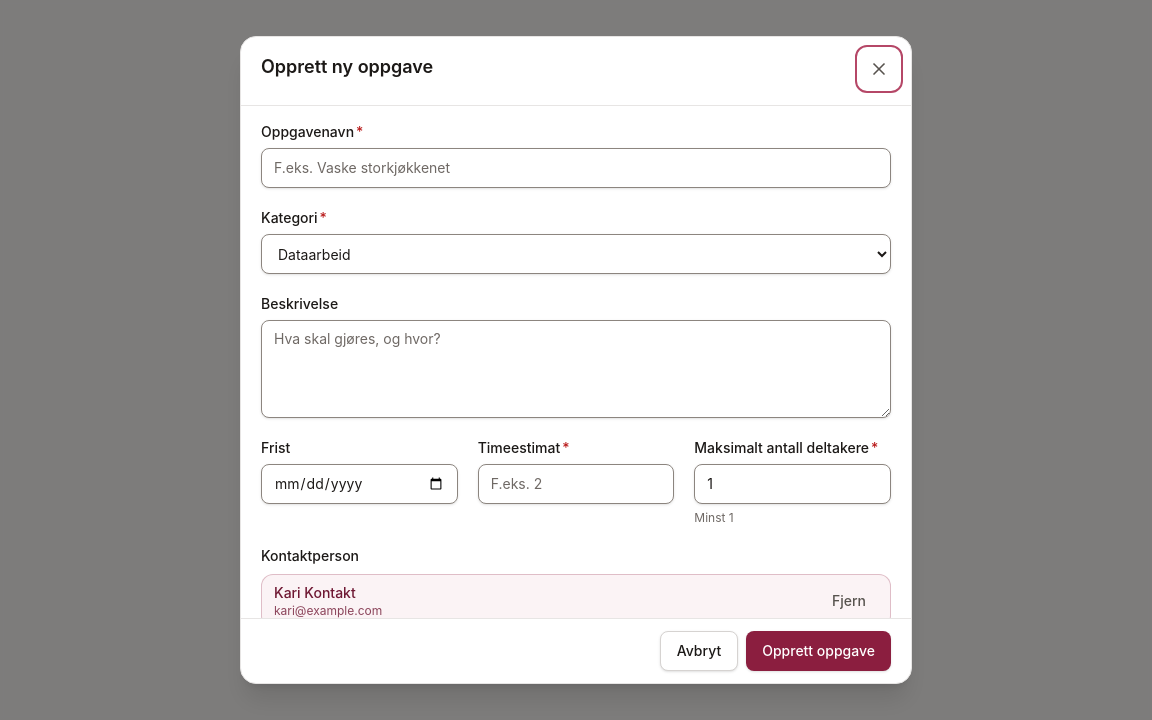
Test: TaskCreationModal › shows validation errors and does not submit invalid input
The width and height of the screenshot is (1152, 720).
Clear the field labelled "Oppgavenavn*" at (576, 168), box [261,148,891,188]
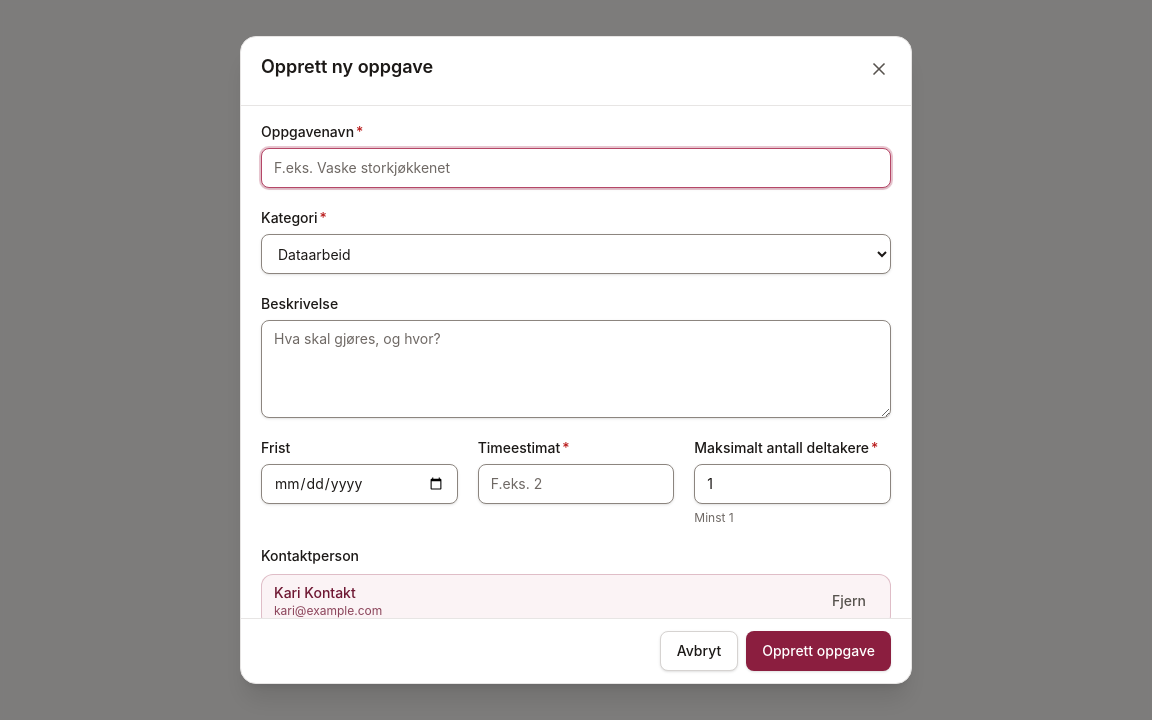
Type "0" into the number field labelled "Timeestimat*" at (576, 484), box [478,464,674,504]
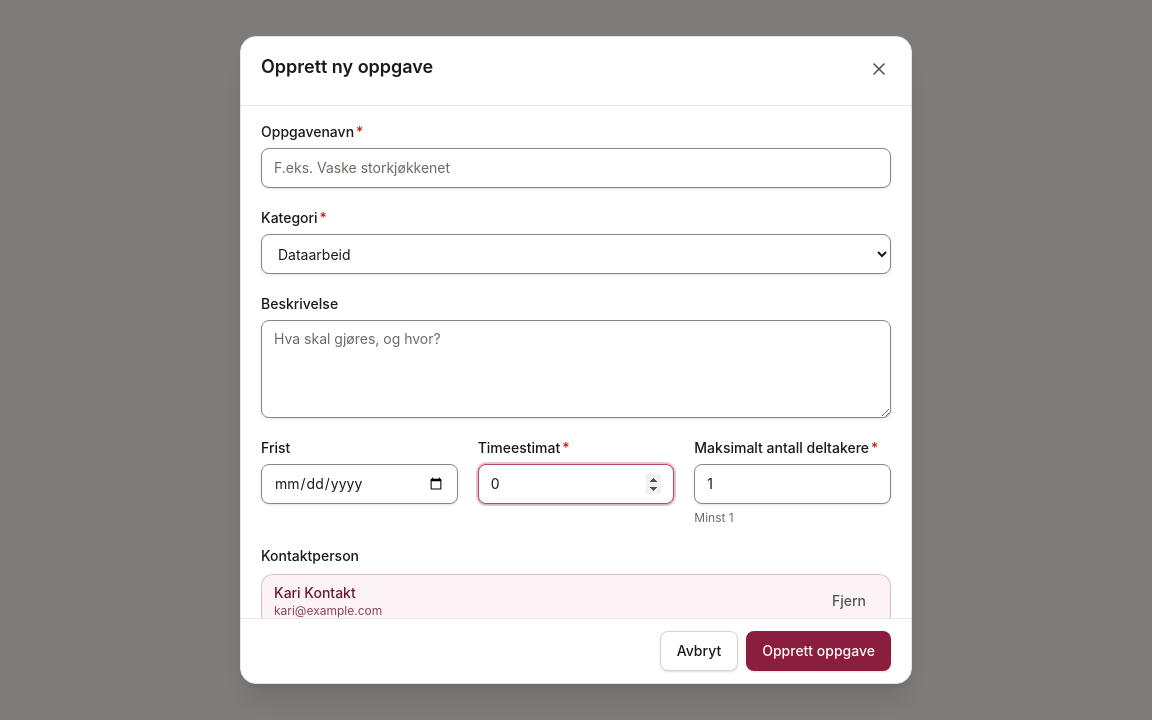
Replace the text in the number field labelled "Maksimalt antall deltakere*" with "0" at (793, 484), box [694,464,891,504]
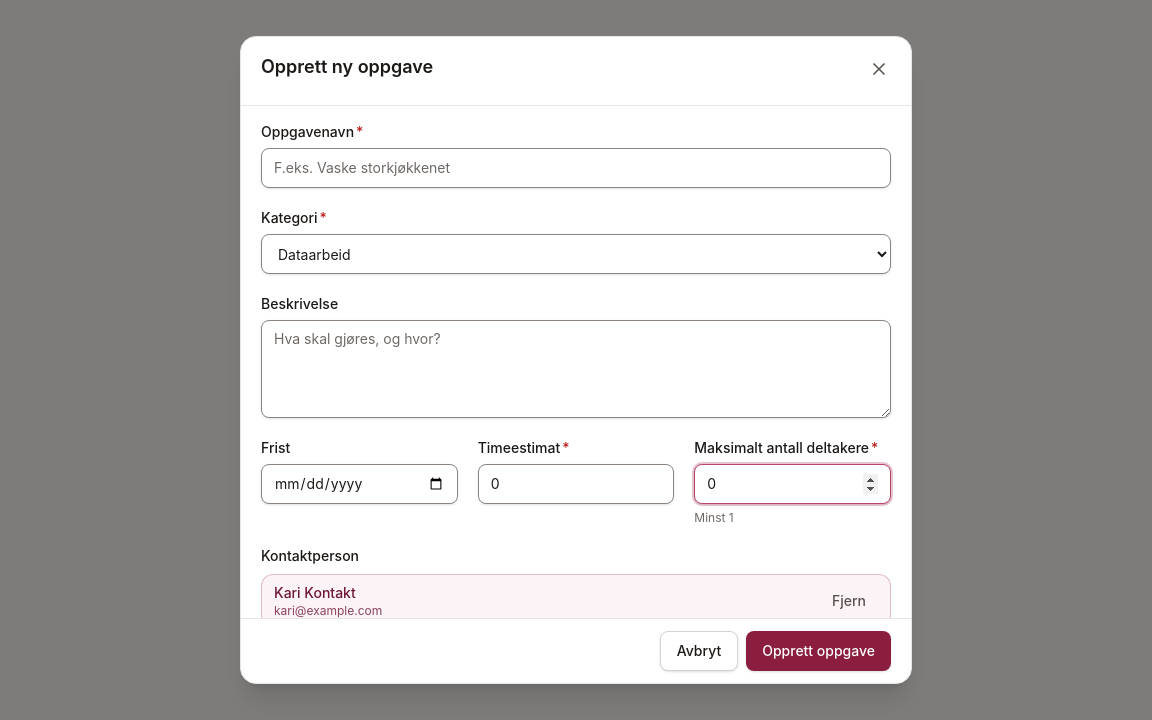
Click the button "Opprett oppgave" at (819, 651), box [746,631,891,671]
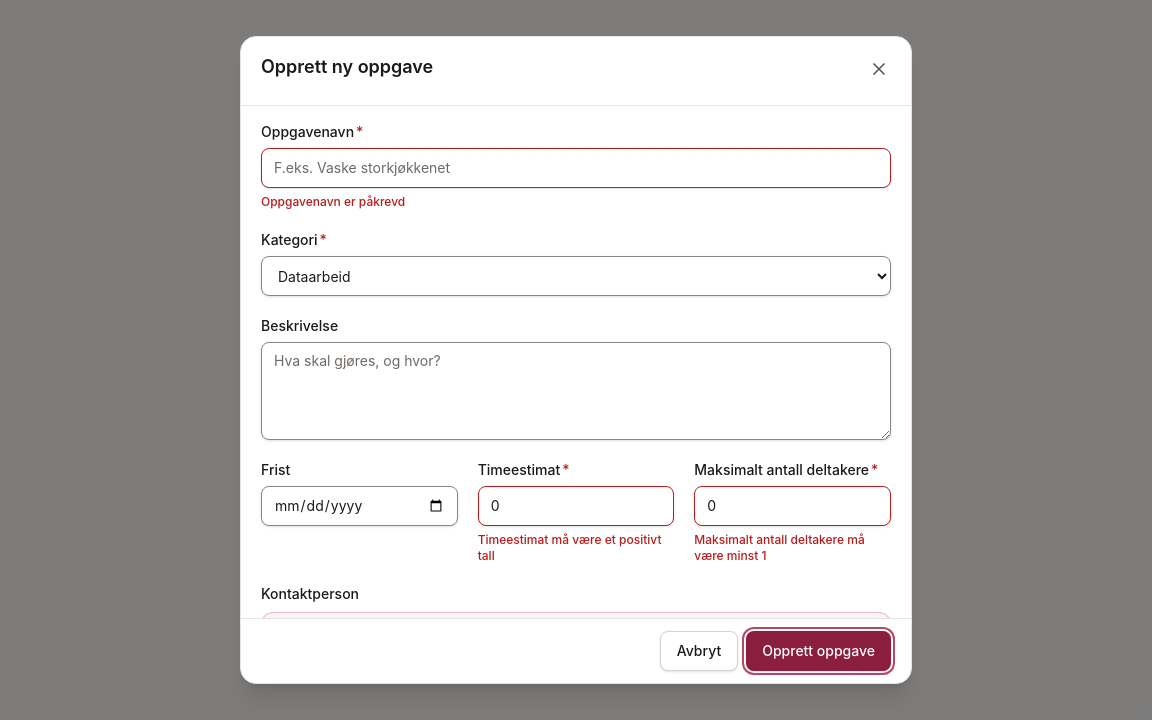
Expected: the text "Oppgavenavn er påkrevd" is shown, [261,194,405,209]
Expected: the text "Timeestimat må være et positivt tall" is shown, [478,532,674,564]
Expected: the text "Maksimalt antall deltakere må være minst 1" is shown, [694,532,891,564]
